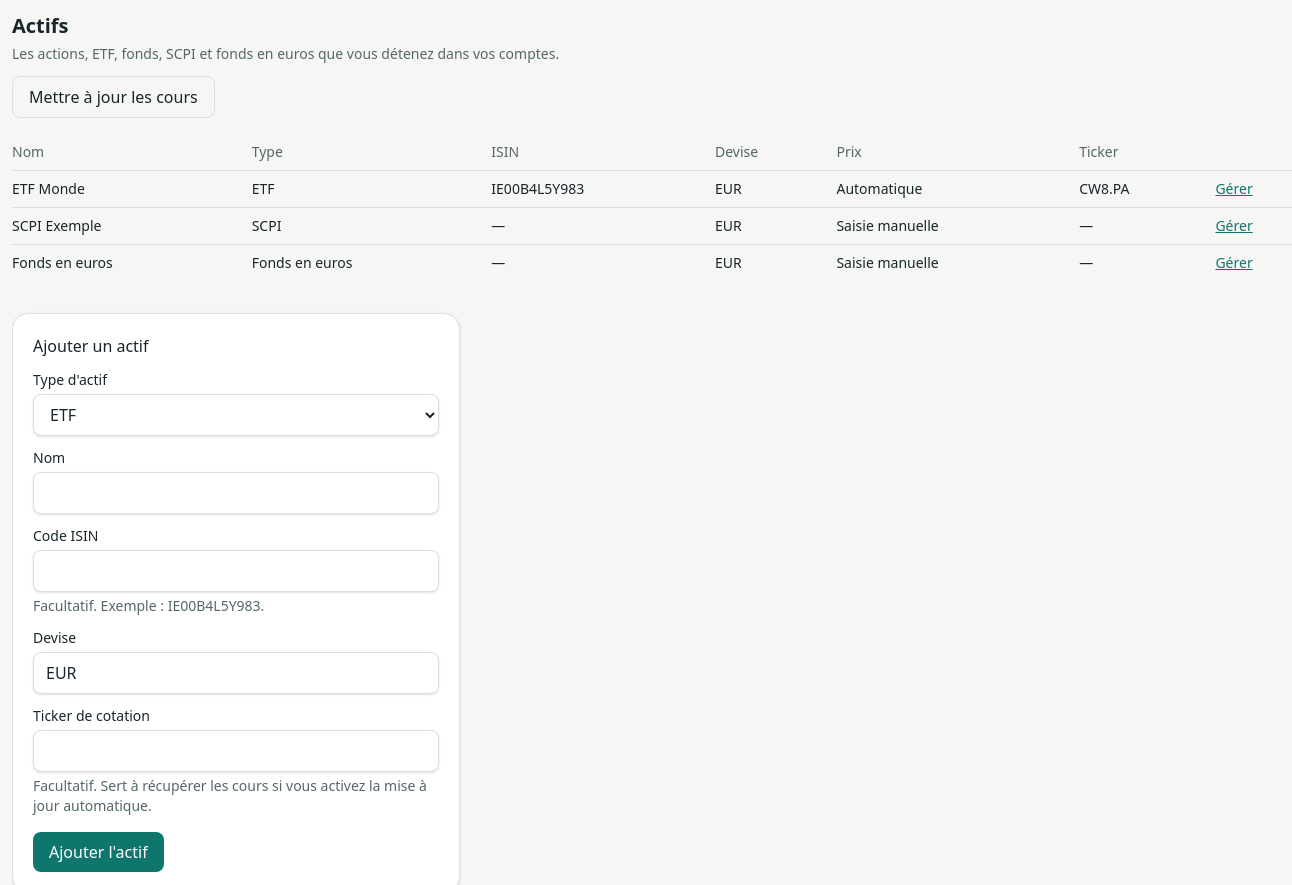
Test: mise à jour des cours › lance la mise à jour et résume chaque source
Click the button "Mettre à jour les cours" at (113, 97), box [12, 76, 215, 118]
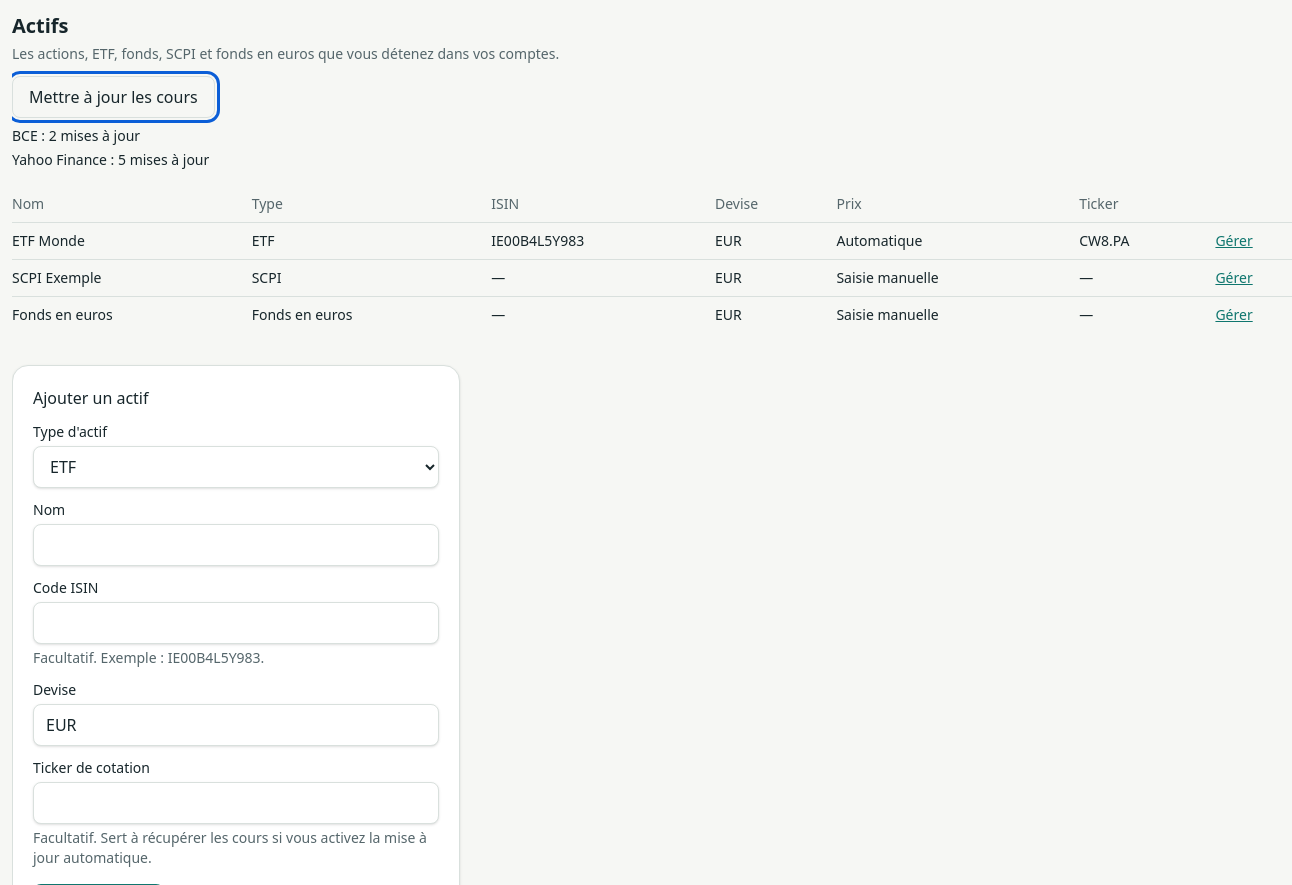
Now the message shows "BCE : 2 mises à jour", box [12, 126, 140, 145]
Now the message shows "Yahoo Finance : 5 mises à jour", box [12, 150, 209, 169]
